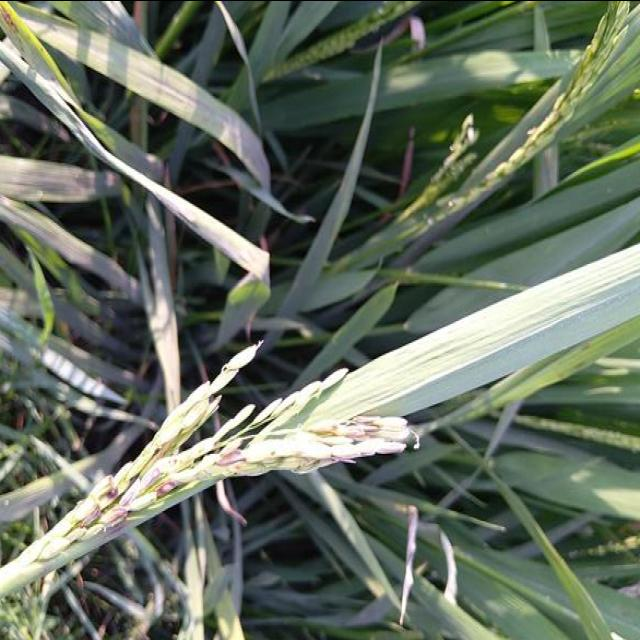Panicle Blight: (325, 415, 411, 459), (108, 498, 129, 523), (76, 504, 99, 526), (216, 449, 244, 466), (99, 476, 117, 498), (156, 481, 177, 495), (147, 466, 158, 485), (162, 440, 173, 453)
